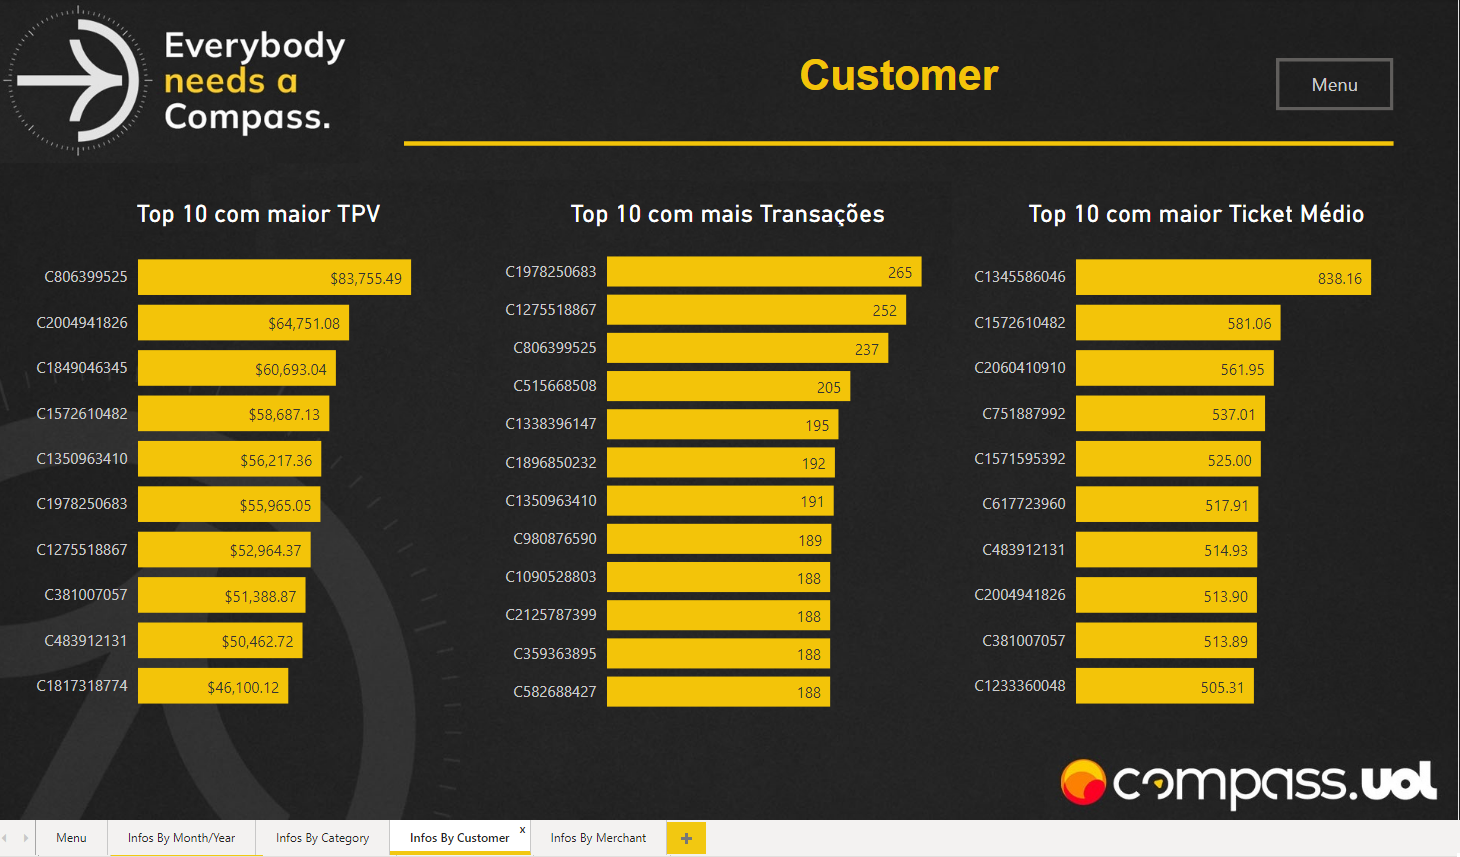

What the dashboard file says about the page in this screenshot:
{"tool":"powerbi","page":{"name":"Infos By Customer","canvas":[1280,720],"ordinal":3},"visuals":[{"type":"clusteredBarChart","title":"Top 10 com maior Ticket Médio","fields":{"Category":["public fact_customer_kpi.id_customer"],"Y":["public fact_customer_kpi.Ticket Médio C"]},"box":[845.7,175.5,411.4,464.5],"z":0},{"type":"shape","box":[356.4,51.9,867.5,150],"z":1000},{"type":"textbox","box":[356.4,41.6,867.5,70.6],"z":2000},{"type":"clusteredBarChart","title":"Top 10 com mais Transações","fields":{"Category":["public fact_customer_kpi.id_customer"],"Y":["Sum(public fact_customer_kpi.qtd_transacoes)"]},"box":[434.3,175.5,411.4,464.5],"z":3000},{"type":"clusteredBarChart","title":"Top 10 com maior TPV","fields":{"Category":["public fact_customer_kpi.id_customer"],"Y":["Sum(public fact_customer_kpi.tpv)"]},"box":[22.9,175.5,411.4,464.5],"z":4000},{"type":"actionButton","title":"Menu","box":[1120.9,52.1,103.3,45.7],"z":5000}]}

Visuals, with their boxes on the page's 1280x720 design canvas (x1, y1, x2, y2). These are canvas units, not pixel positions in the 1460x857 screenshot, which may show the page scaled, cropped or inside an application window:
"Top 10 com maior Ticket Médio" clusteredBarChart: [left=846, top=176, right=1257, bottom=640]
shape: [left=356, top=52, right=1224, bottom=202]
textbox: [left=356, top=42, right=1224, bottom=112]
"Top 10 com mais Transações" clusteredBarChart: [left=434, top=176, right=846, bottom=640]
"Top 10 com maior TPV" clusteredBarChart: [left=23, top=176, right=434, bottom=640]
"Menu" actionButton: [left=1121, top=52, right=1224, bottom=98]
